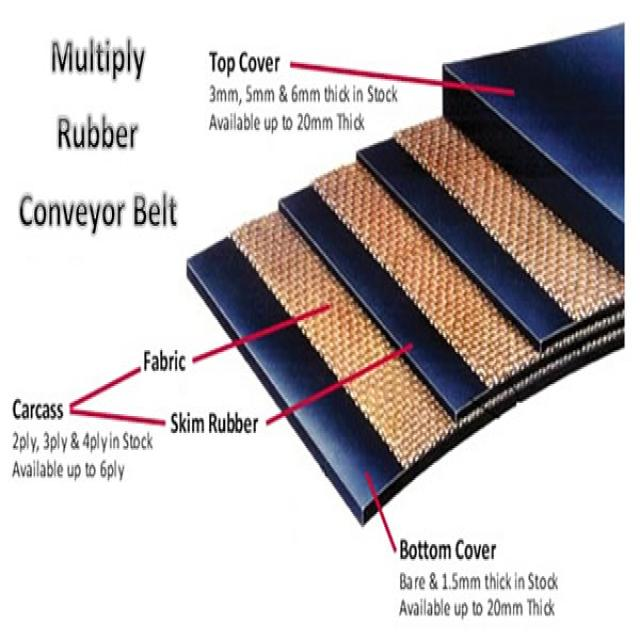conveyor: (167, 41, 634, 530)
